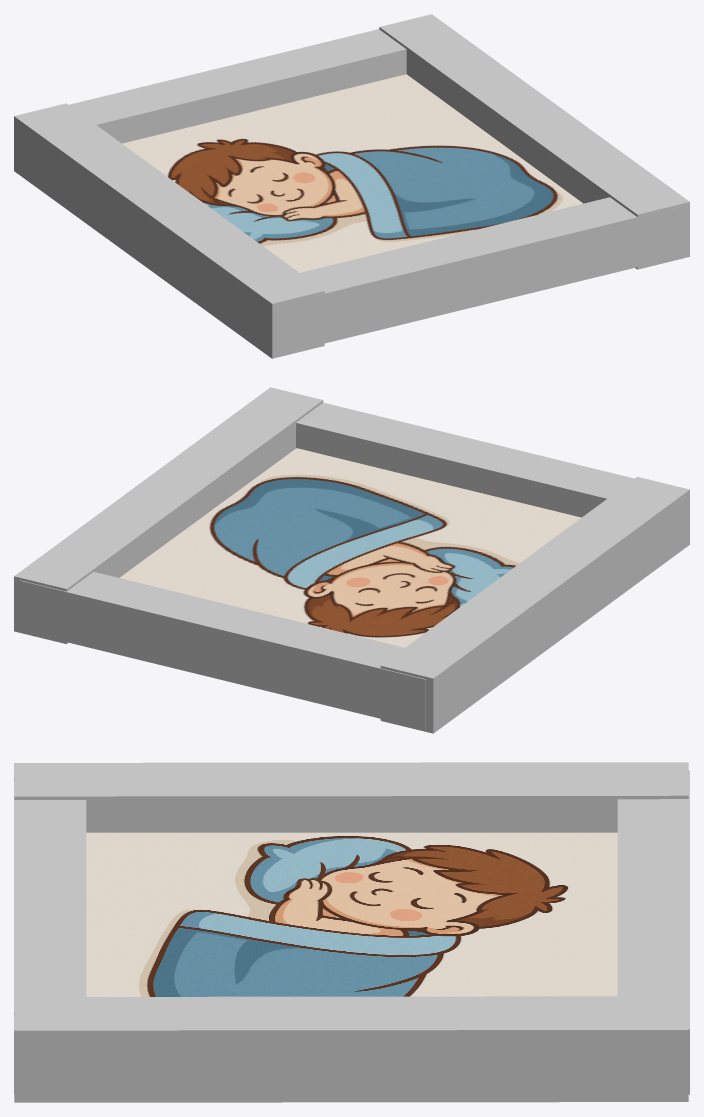
The model's file is NiñoDormido.fbx.
3 views of the same model, one above another, from view 1: azimuth 30°, elevation 25°; view 2: azimuth 150°, elevation 25°; view 3: azimuth 270°, elevation 25° (orthographic). The views are drawn at different scales.
Visible parts, largest first — view 1: Cube.003, Plane; view 2: Cube.003, Plane; view 3: Cube.003, Plane.
Boxes of the visible parts, box(x1,y1,x2,y2) form: Cube.003: box(14, 14, 689, 358); Plane: box(122, 74, 582, 272); Cube.003: box(14, 387, 689, 733); Plane: box(119, 448, 581, 647); Cube.003: box(14, 762, 689, 1102); Plane: box(86, 832, 617, 996).
Bounding box in the file's own units: 8780 × 1100 × 9342.
Materials: 1 (1 with a texture image).
